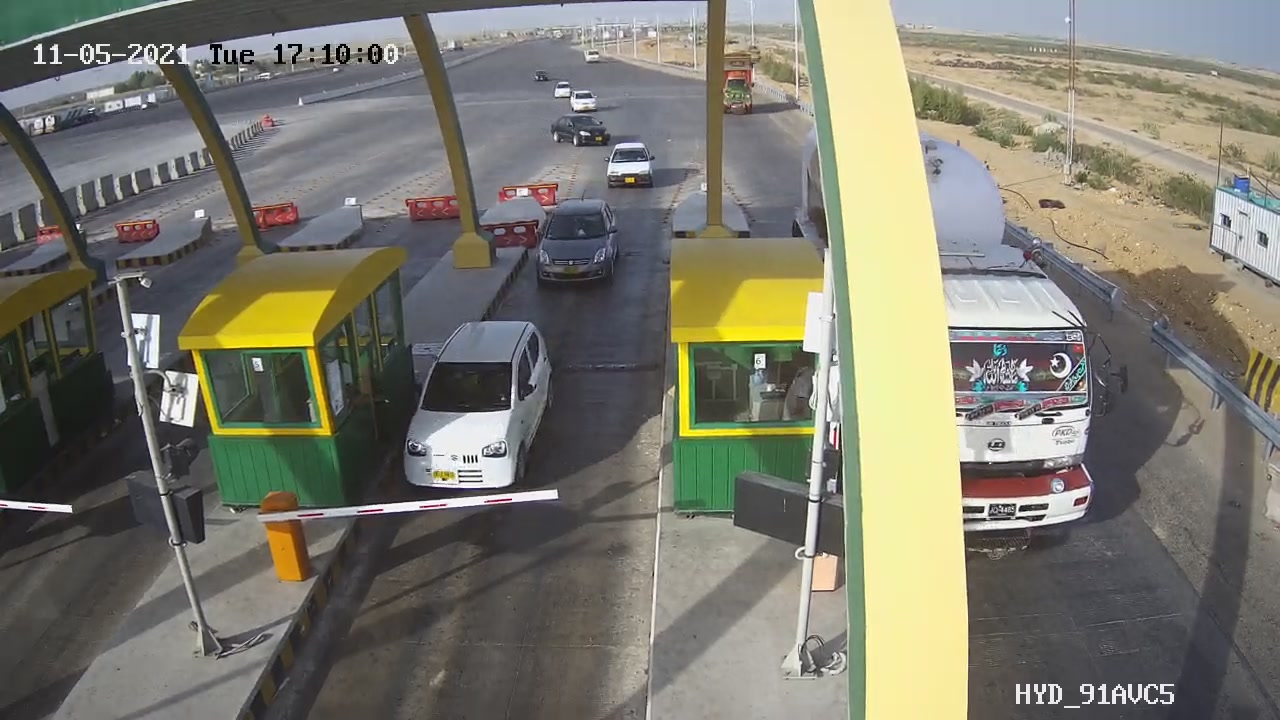F1: (382, 307, 573, 505), (516, 192, 635, 303)
